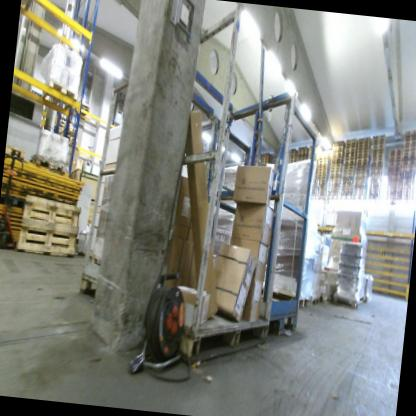pallet: (17, 194, 87, 261), (39, 79, 79, 113), (30, 153, 68, 178), (264, 288, 310, 308), (330, 289, 364, 310), (79, 263, 99, 297), (71, 101, 91, 123), (5, 141, 27, 161), (305, 293, 319, 307), (357, 147, 369, 155), (373, 134, 385, 141), (358, 136, 370, 143), (357, 142, 369, 149), (373, 140, 385, 146), (372, 144, 384, 149), (358, 140, 369, 145), (373, 138, 385, 142), (357, 146, 369, 150), (57, 119, 66, 124), (59, 123, 65, 128), (57, 128, 60, 133)
pallet_truck: (0, 153, 29, 251)
